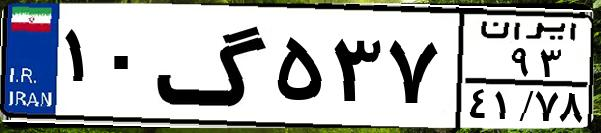0: (110, 28, 156, 98)
1: (57, 26, 110, 100), (495, 70, 520, 125)
3: (330, 28, 385, 110), (537, 27, 568, 80)
4: (470, 70, 495, 125)
5: (270, 28, 330, 110)
7: (385, 28, 445, 110), (535, 70, 560, 125)
8: (560, 70, 590, 125)
9: (508, 27, 537, 80)
گ: (156, 12, 270, 120)
